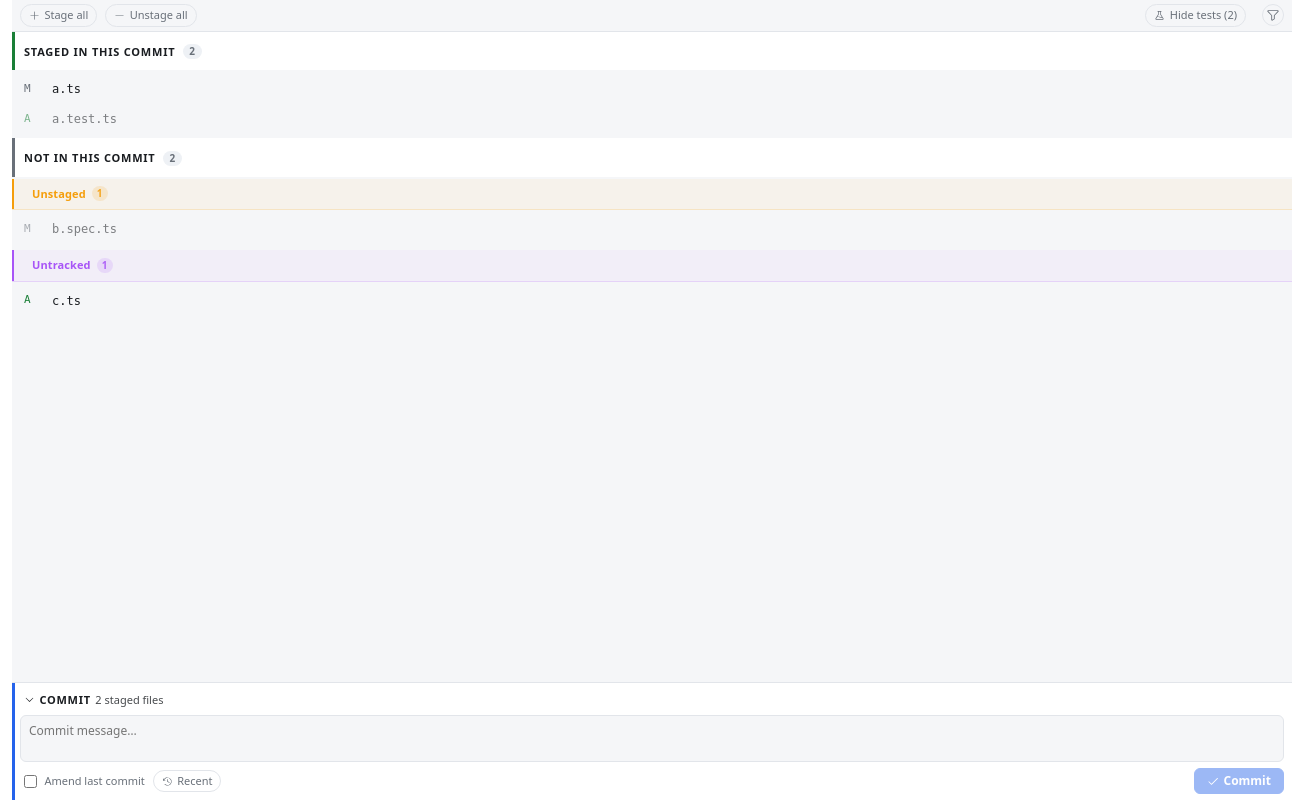
WorkingCopyDetail file filters (via FileList) › shows a 'Hide tests' toggle that hides .test./.spec. files across all groups
The width and height of the screenshot is (1304, 800).
Expected: the text "a.test.ts" is shown, left=52, top=110, right=117, bottom=128
Expected: the text "b.spec.ts" is shown, left=52, top=220, right=117, bottom=238
What coordinates should you click on to do the following:
click the button "Hide tests (2)"
I would click on:
 (1196, 15)
Its box is left=1145, top=4, right=1246, bottom=26.
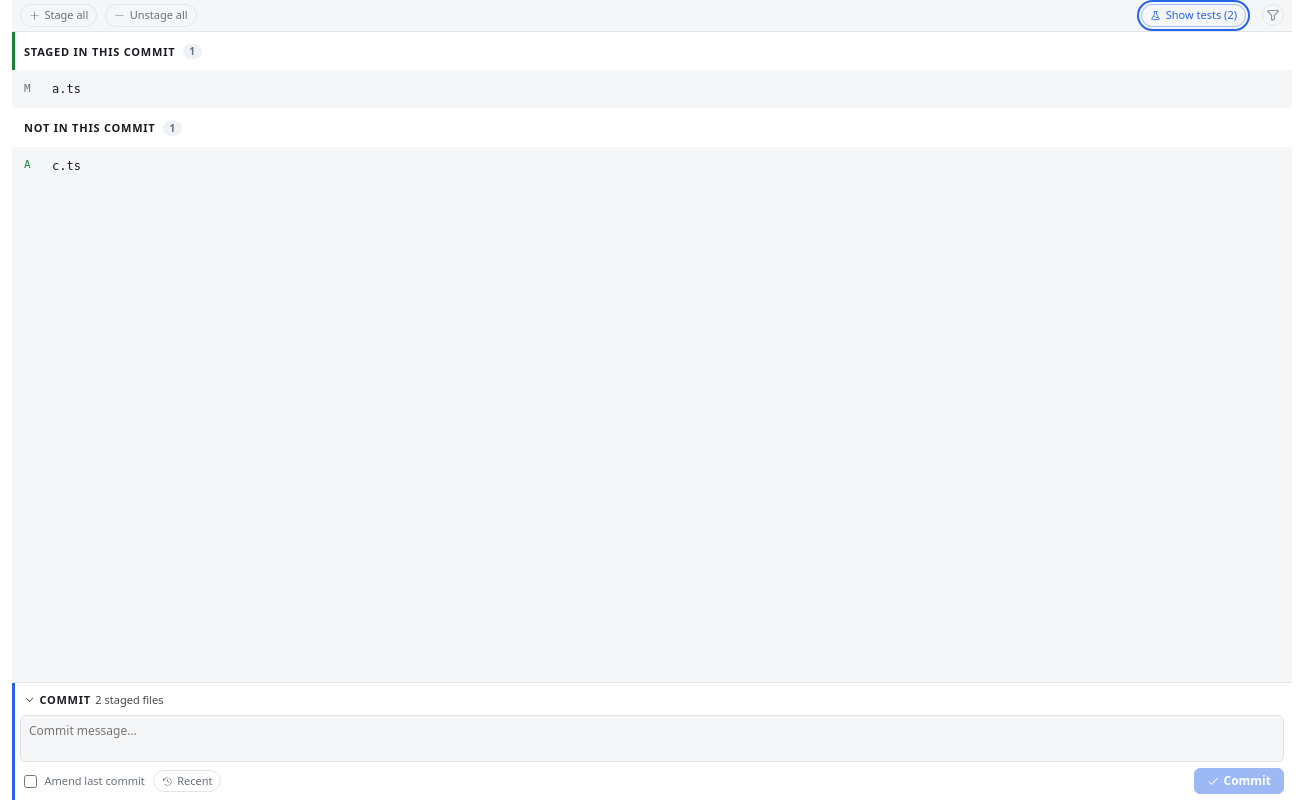
Expected: the text "a.ts" is shown, left=52, top=80, right=81, bottom=98
Expected: the button "a.test.ts" is gone
Expected: the button "b.spec.ts" is gone
